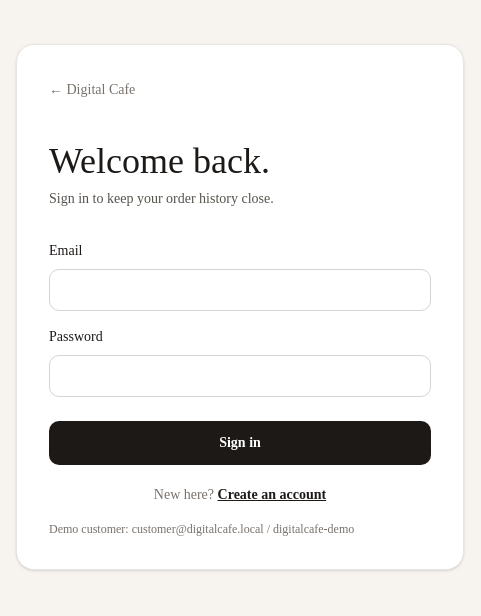
Test: login form › shows a network error and clears pending state when fetch fails
The width and height of the screenshot is (481, 616).
In the field labelled "Email": (240, 290) [49,269,431,311], type "customer@digitalcafe.local"
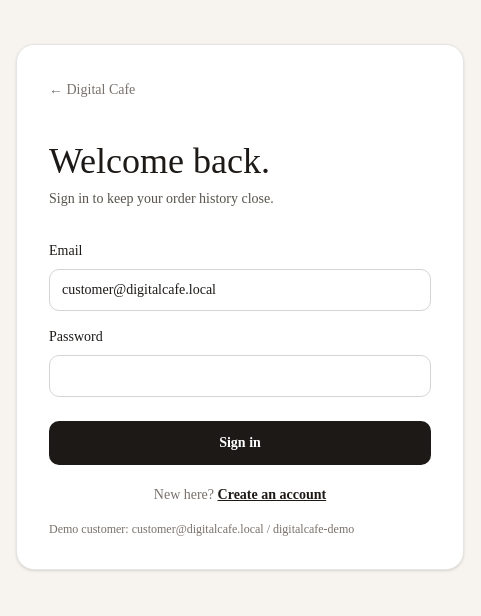
In the password field labelled "Password": (240, 376) [49,355,431,397], type "digitalcafe-demo"
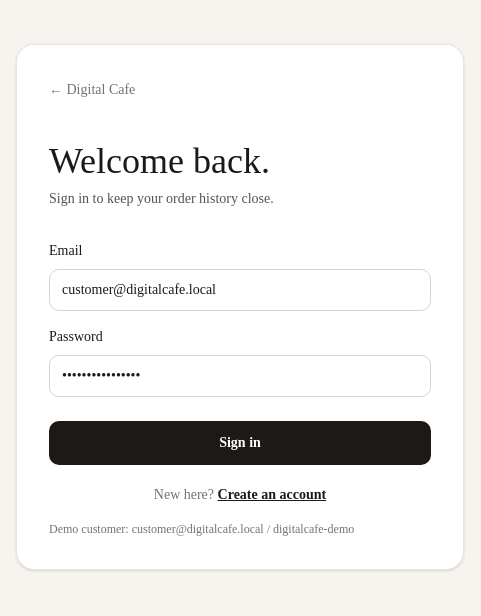
Click the button "Sign in": (240, 443) [49,421,431,465]
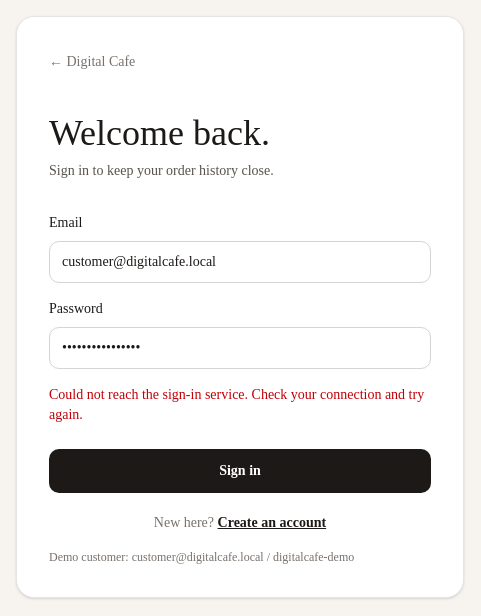
Expected: the button "Sign in" is enabled, [49,449,431,493]
Result: the text "Could not reach the sign-in service" is shown at [49,387,424,422]
